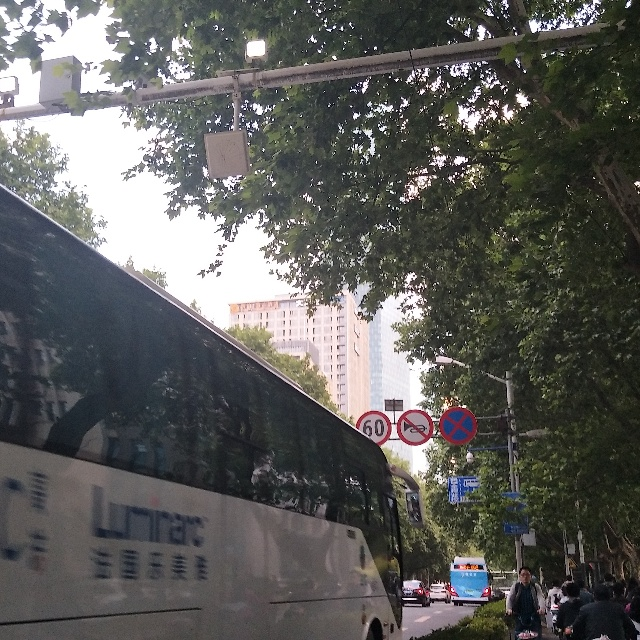nohonk: (399, 413, 431, 441)
stop: (441, 408, 477, 440)
